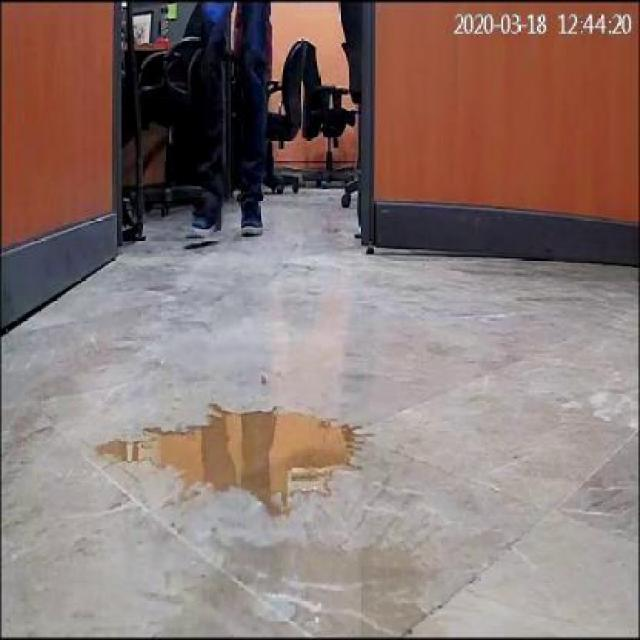spill: (146, 522, 437, 638), (95, 394, 377, 508)
